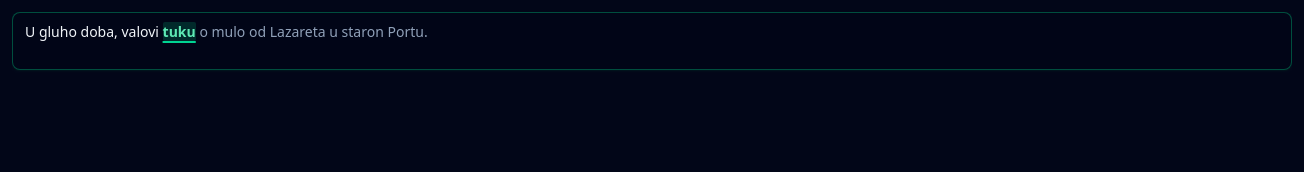
Test: UnifiedScriptEditor Component › unlocks text editing when double-clicking anywhere on the transport container
This screenshot has width=1304, height=172.
Double-click the element with test id "unified-editor-transport-blk_unlock_2" at (652, 41), box [12,12,1292,70]
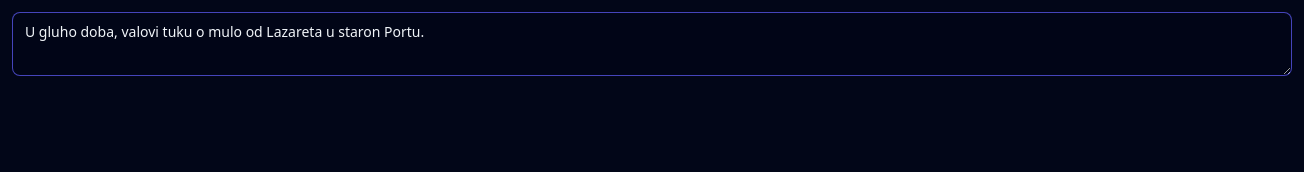
Result: the text box with test id "unified-editor-textarea-blk_unlock_2" is shown at [12,12,1292,76]
